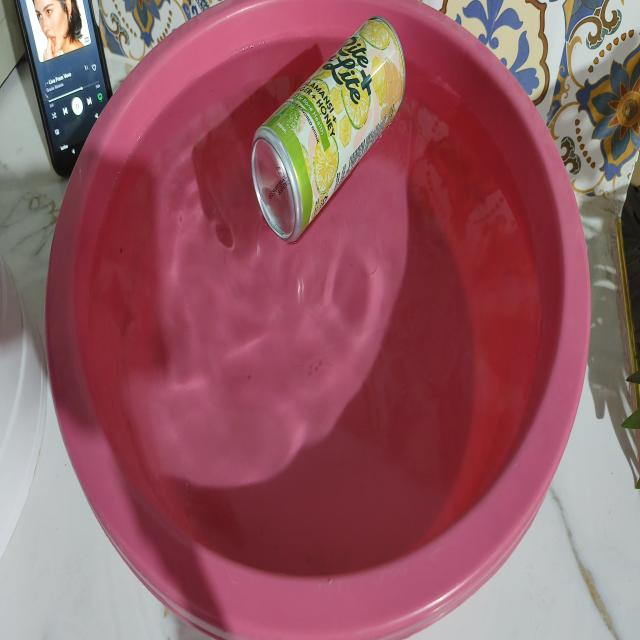Aluminum Can: (237, 0, 434, 269)
